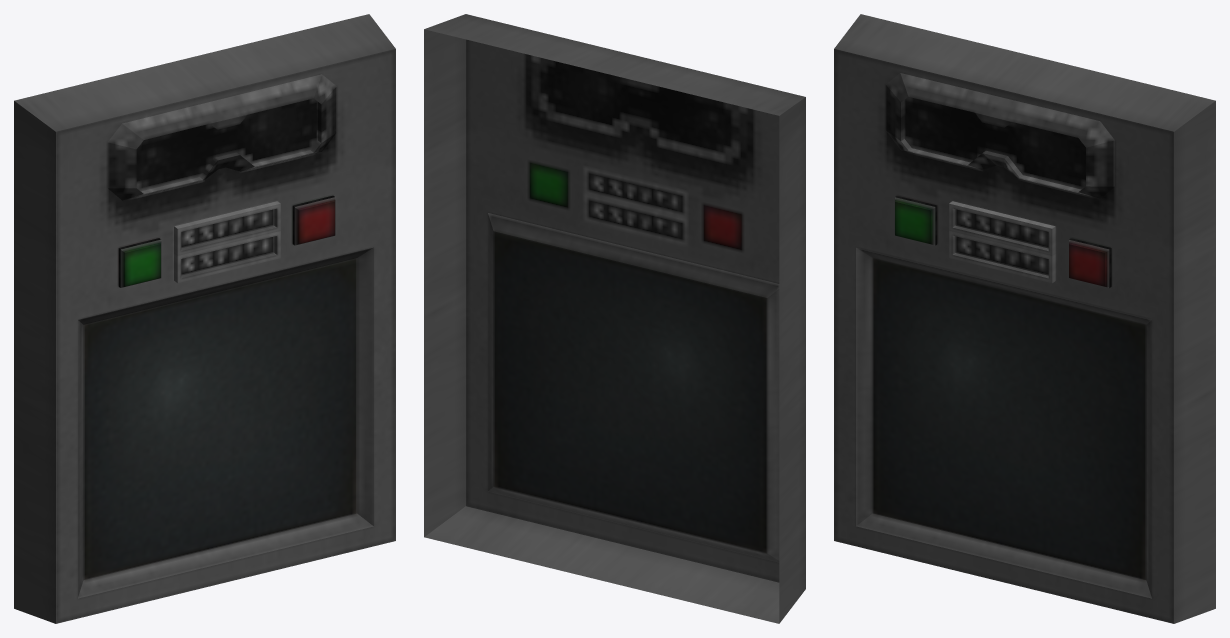
File: scanner_1.obj
The picture shows the model from 3 angles, left to right: view 1: azimuth 30°, elevation 25°; view 2: azimuth 150°, elevation 25°; view 3: azimuth 330°, elevation 25°; orthographic projection.
Visible parts, largest first — view 1: scanner_1; view 2: scanner_1; view 3: scanner_1.
Part boxes in pixels (bbox=[...]): scanner_1: bbox=[14, 14, 395, 623]; scanner_1: bbox=[424, 14, 805, 623]; scanner_1: bbox=[834, 14, 1215, 623].
Size of the model in its own units: 0.3 by 0.41 by 0.06.
